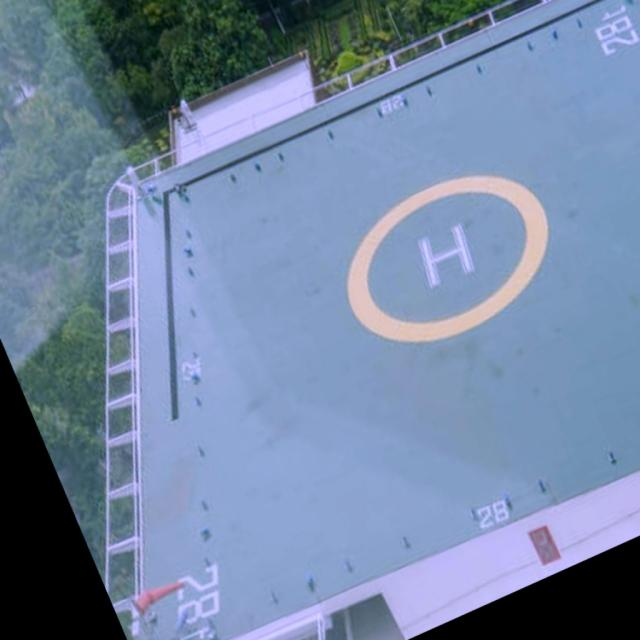helipad: (343, 170, 555, 348)
